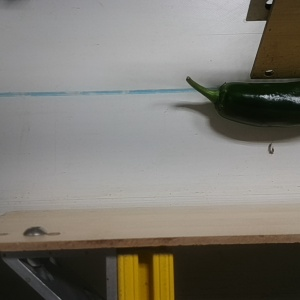Cut Point: (208, 80, 235, 121)
